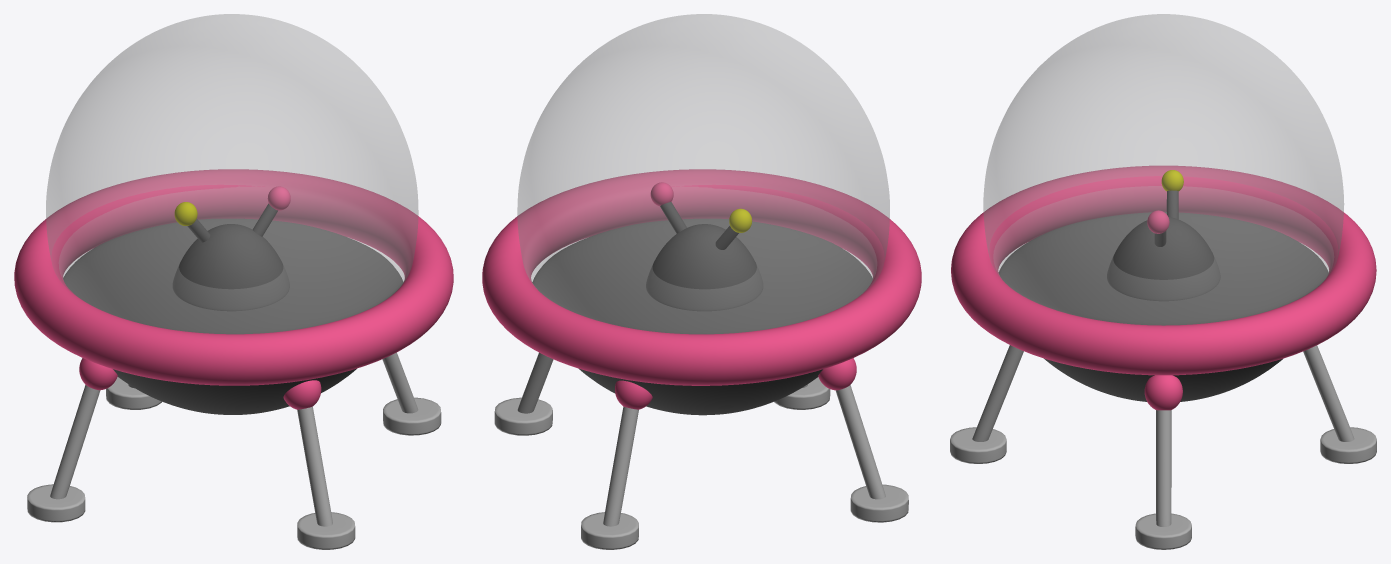
File: spaceship.fbx
3 renders of one model, left to right at view 1: azimuth 30°, elevation 25°; view 2: azimuth 150°, elevation 25°; view 3: azimuth 270°, elevation 25°, orthographic. The views are drawn at different scales.
Parts seen in each view (by area): view 1: pSphere4, pTorus1, pSphere5, pSphere7, pCylinder2 (×4), pCylinder3 (×3), pSphere6 (×2); view 2: pSphere4, pTorus1, pSphere5, pSphere7, pCylinder2 (×4), pCylinder3 (×3), pSphere6 (×2); view 3: pSphere4, pTorus1, pSphere5, pSphere7, pCylinder3 (×3), pCylinder2 (×3), pSphere6.
Boxes of the visible parts, left/top/right/bottom form: pSphere4: left=46, top=14, right=418, bottom=334; pTorus1: left=14, top=169, right=453, bottom=385; pSphere5: left=63, top=218, right=403, bottom=414; pSphere7: left=172, top=224, right=289, bottom=311; pCylinder2 (×4): left=27, top=377, right=441, bottom=549; pCylinder3 (×3): left=50, top=352, right=418, bottom=526; pSphere6 (×2): left=79, top=358, right=321, bottom=409; pSphere4: left=517, top=14, right=889, bottom=334; pTorus1: left=482, top=169, right=921, bottom=385; pSphere5: left=532, top=218, right=872, bottom=415; pSphere7: left=646, top=224, right=763, bottom=311; pCylinder2 (×4): left=494, top=377, right=908, bottom=549; pCylinder3 (×3): left=517, top=352, right=885, bottom=526; pSphere6 (×2): left=615, top=358, right=856, bottom=409; pSphere4: left=983, top=14, right=1344, bottom=325; pTorus1: left=951, top=165, right=1376, bottom=375; pSphere5: left=999, top=212, right=1328, bottom=401; pSphere7: left=1107, top=217, right=1220, bottom=301; pCylinder3 (×3): left=972, top=345, right=1354, bottom=526; pCylinder2 (×3): left=950, top=427, right=1376, bottom=549; pSphere6: left=1144, top=375, right=1182, bottom=410.
Bounding box in the file's own units: 4.78 × 4.91 × 4.49.
